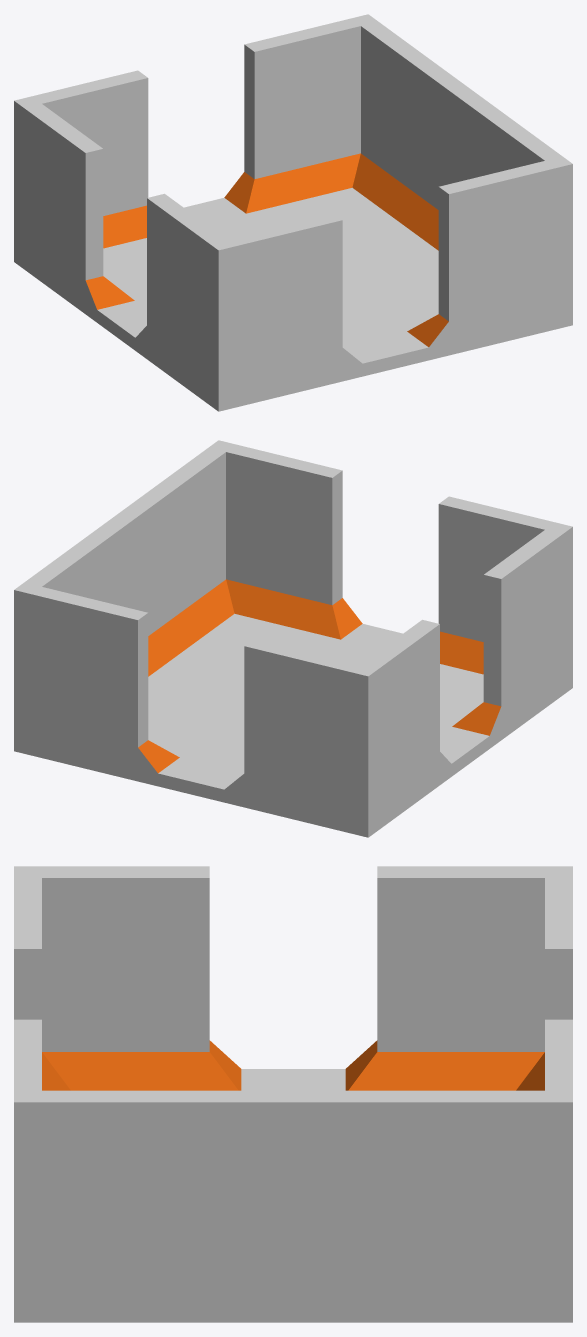
File: 3-wall.fbx
The picture shows the model from 3 angles, top to bottom: view 1: azimuth 30°, elevation 25°; view 2: azimuth 150°, elevation 25°; view 3: azimuth 270°, elevation 25°; orthographic projection. The views are drawn at different scales.
Visible parts, largest first — view 1: Плоскость.005; view 2: Плоскость.005; view 3: Плоскость.005.
Boxes of the visible parts, bbox=[...] form: Плоскость.005: bbox=[14, 14, 572, 411]; Плоскость.005: bbox=[14, 440, 572, 837]; Плоскость.005: bbox=[14, 866, 572, 1322].
Bounding box in the file's own units: 200 × 87 × 200.
